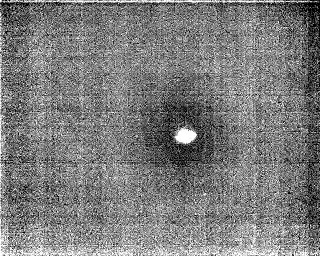AIRPLANE: (172, 123, 199, 147)
